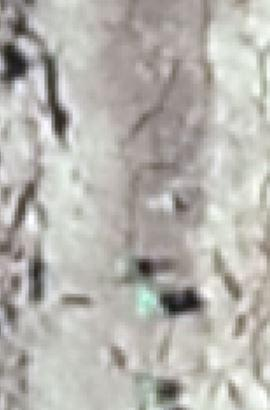cotton: (138, 289, 158, 314), (125, 257, 138, 279)
